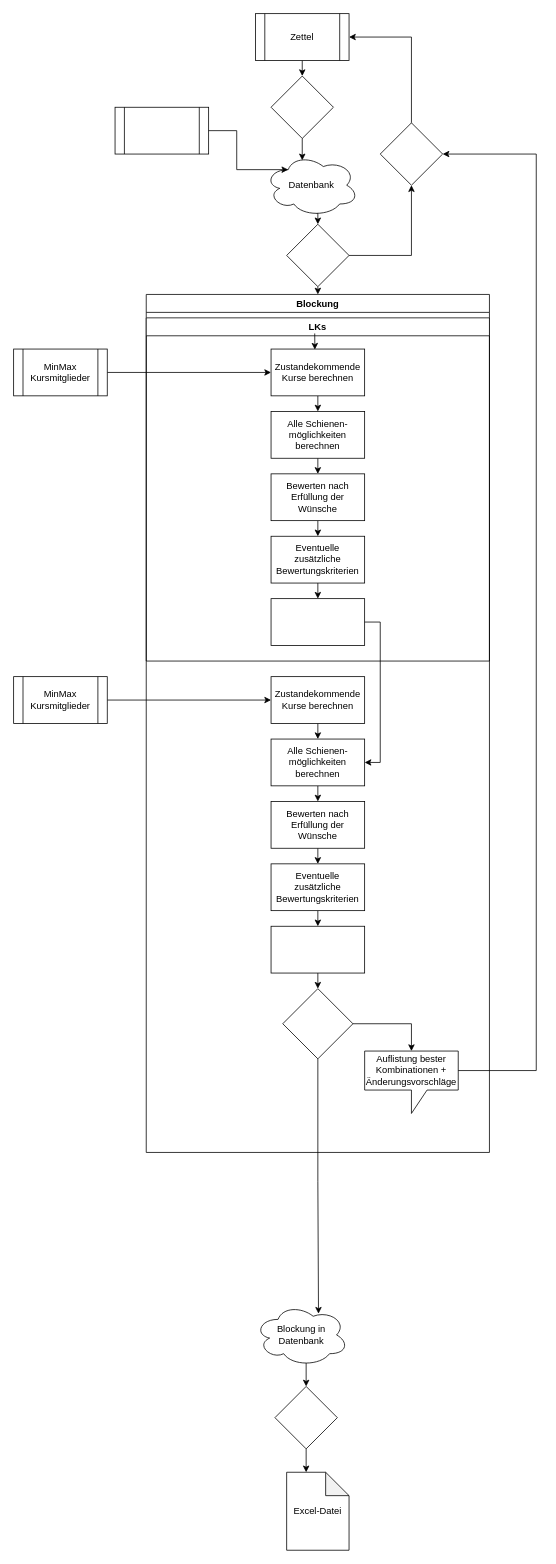
Image size: 556x1564. Some labels were removed from this diagram. Here are the shapes that lost their labels. From the top down, the centre of each, then its label:
the point at 301,106: Scan
the point at 161,130: Emmy-Tabelle
the point at 411,153: Schüler informieren
the point at 317,255: Legalitäts- prüfung
the point at 317,621: Speicherung sortiert nach Bewertung
the point at 317,949: Speicherung sortiert nach Gesamtbewertung
the point at 317,1023: Perfekte Kombination möglich?
the point at 305,1417: Export
